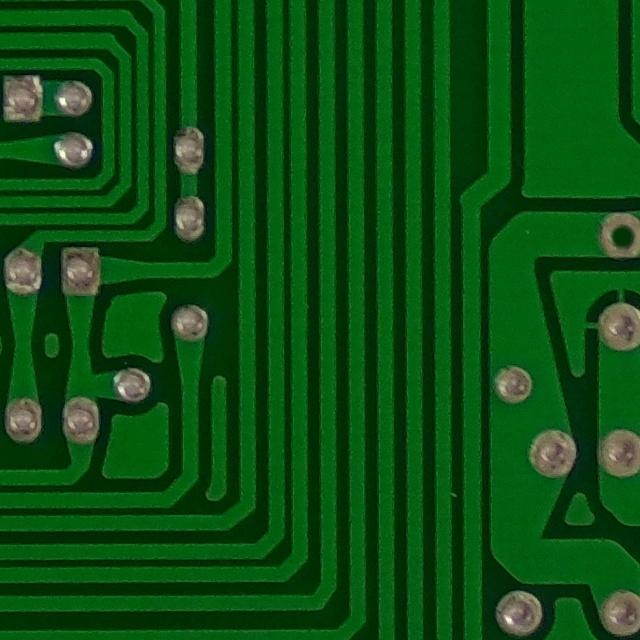missing_hole: (593, 203, 640, 262)
